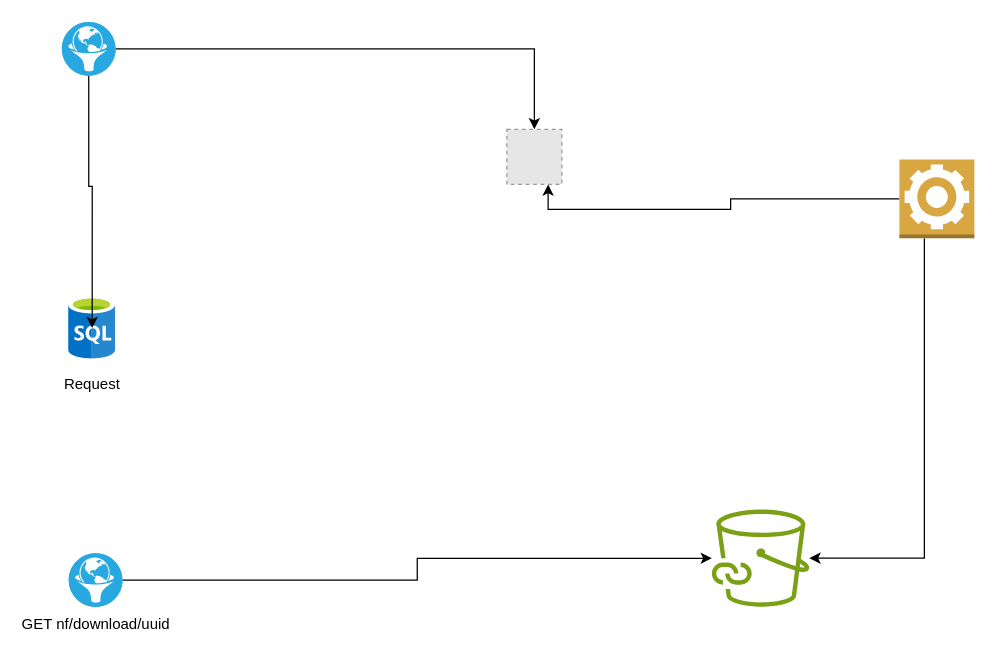
This 996x655 diagram has some shape labels left out. Grey dashed boxes stand in for pictures. The centre of each missing label's shape, as x and y in pixels:
"POST nf/request" belongs at (x=88, y=48).
"Worker" belongs at (x=936, y=198).
